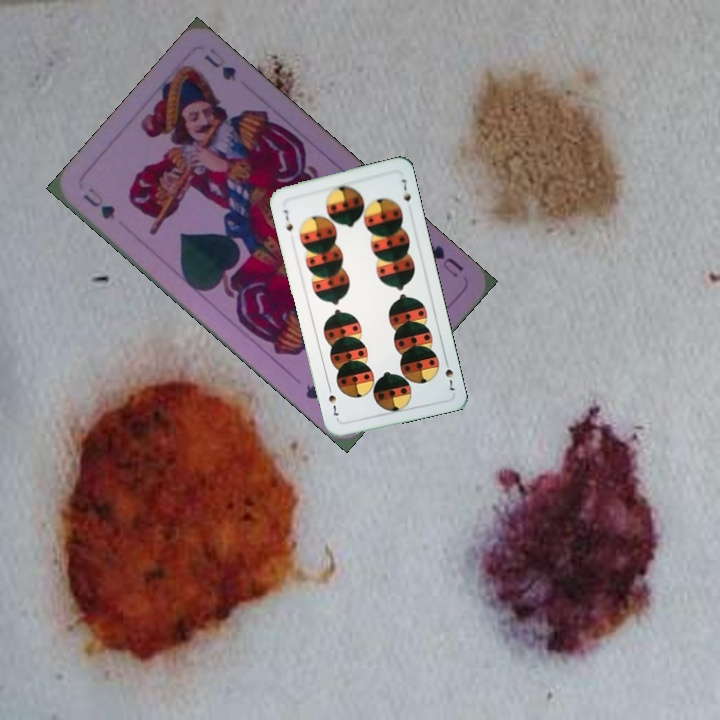GU: (426, 240, 467, 281), (79, 183, 118, 222)
S7: (441, 354, 457, 393), (279, 206, 295, 234)
